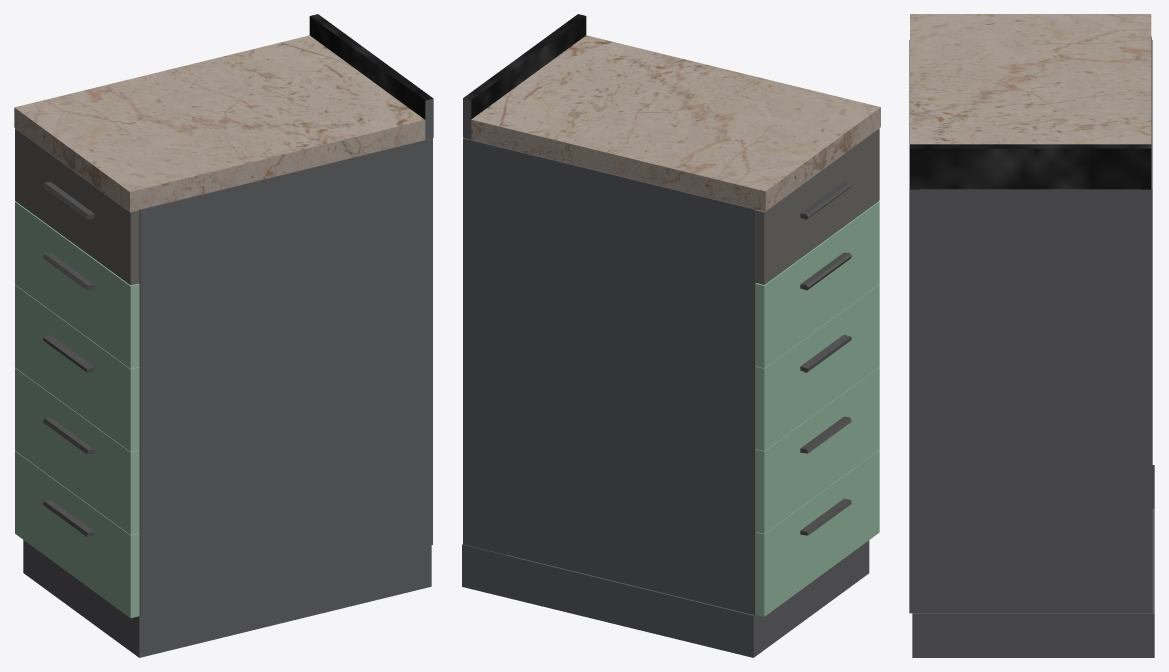
The model's file is table_cook_3.fbx.
The picture shows the model from 3 angles, left to right: view 1: azimuth 30°, elevation 25°; view 2: azimuth 150°, elevation 25°; view 3: azimuth 270°, elevation 25°; orthographic projection. The views are drawn at different scales.
Visible parts, largest first — view 1: table_cook_3; view 2: table_cook_3; view 3: table_cook_3.
Part boxes in pixels (<box>): table_cook_3: <box>14,14,433,657</box>; table_cook_3: <box>462,14,880,657</box>; table_cook_3: <box>909,14,1154,657</box>.
Bounding box in the file's own units: 17.51 × 11.46 × 26.3.
6 materials, 2 textured.
